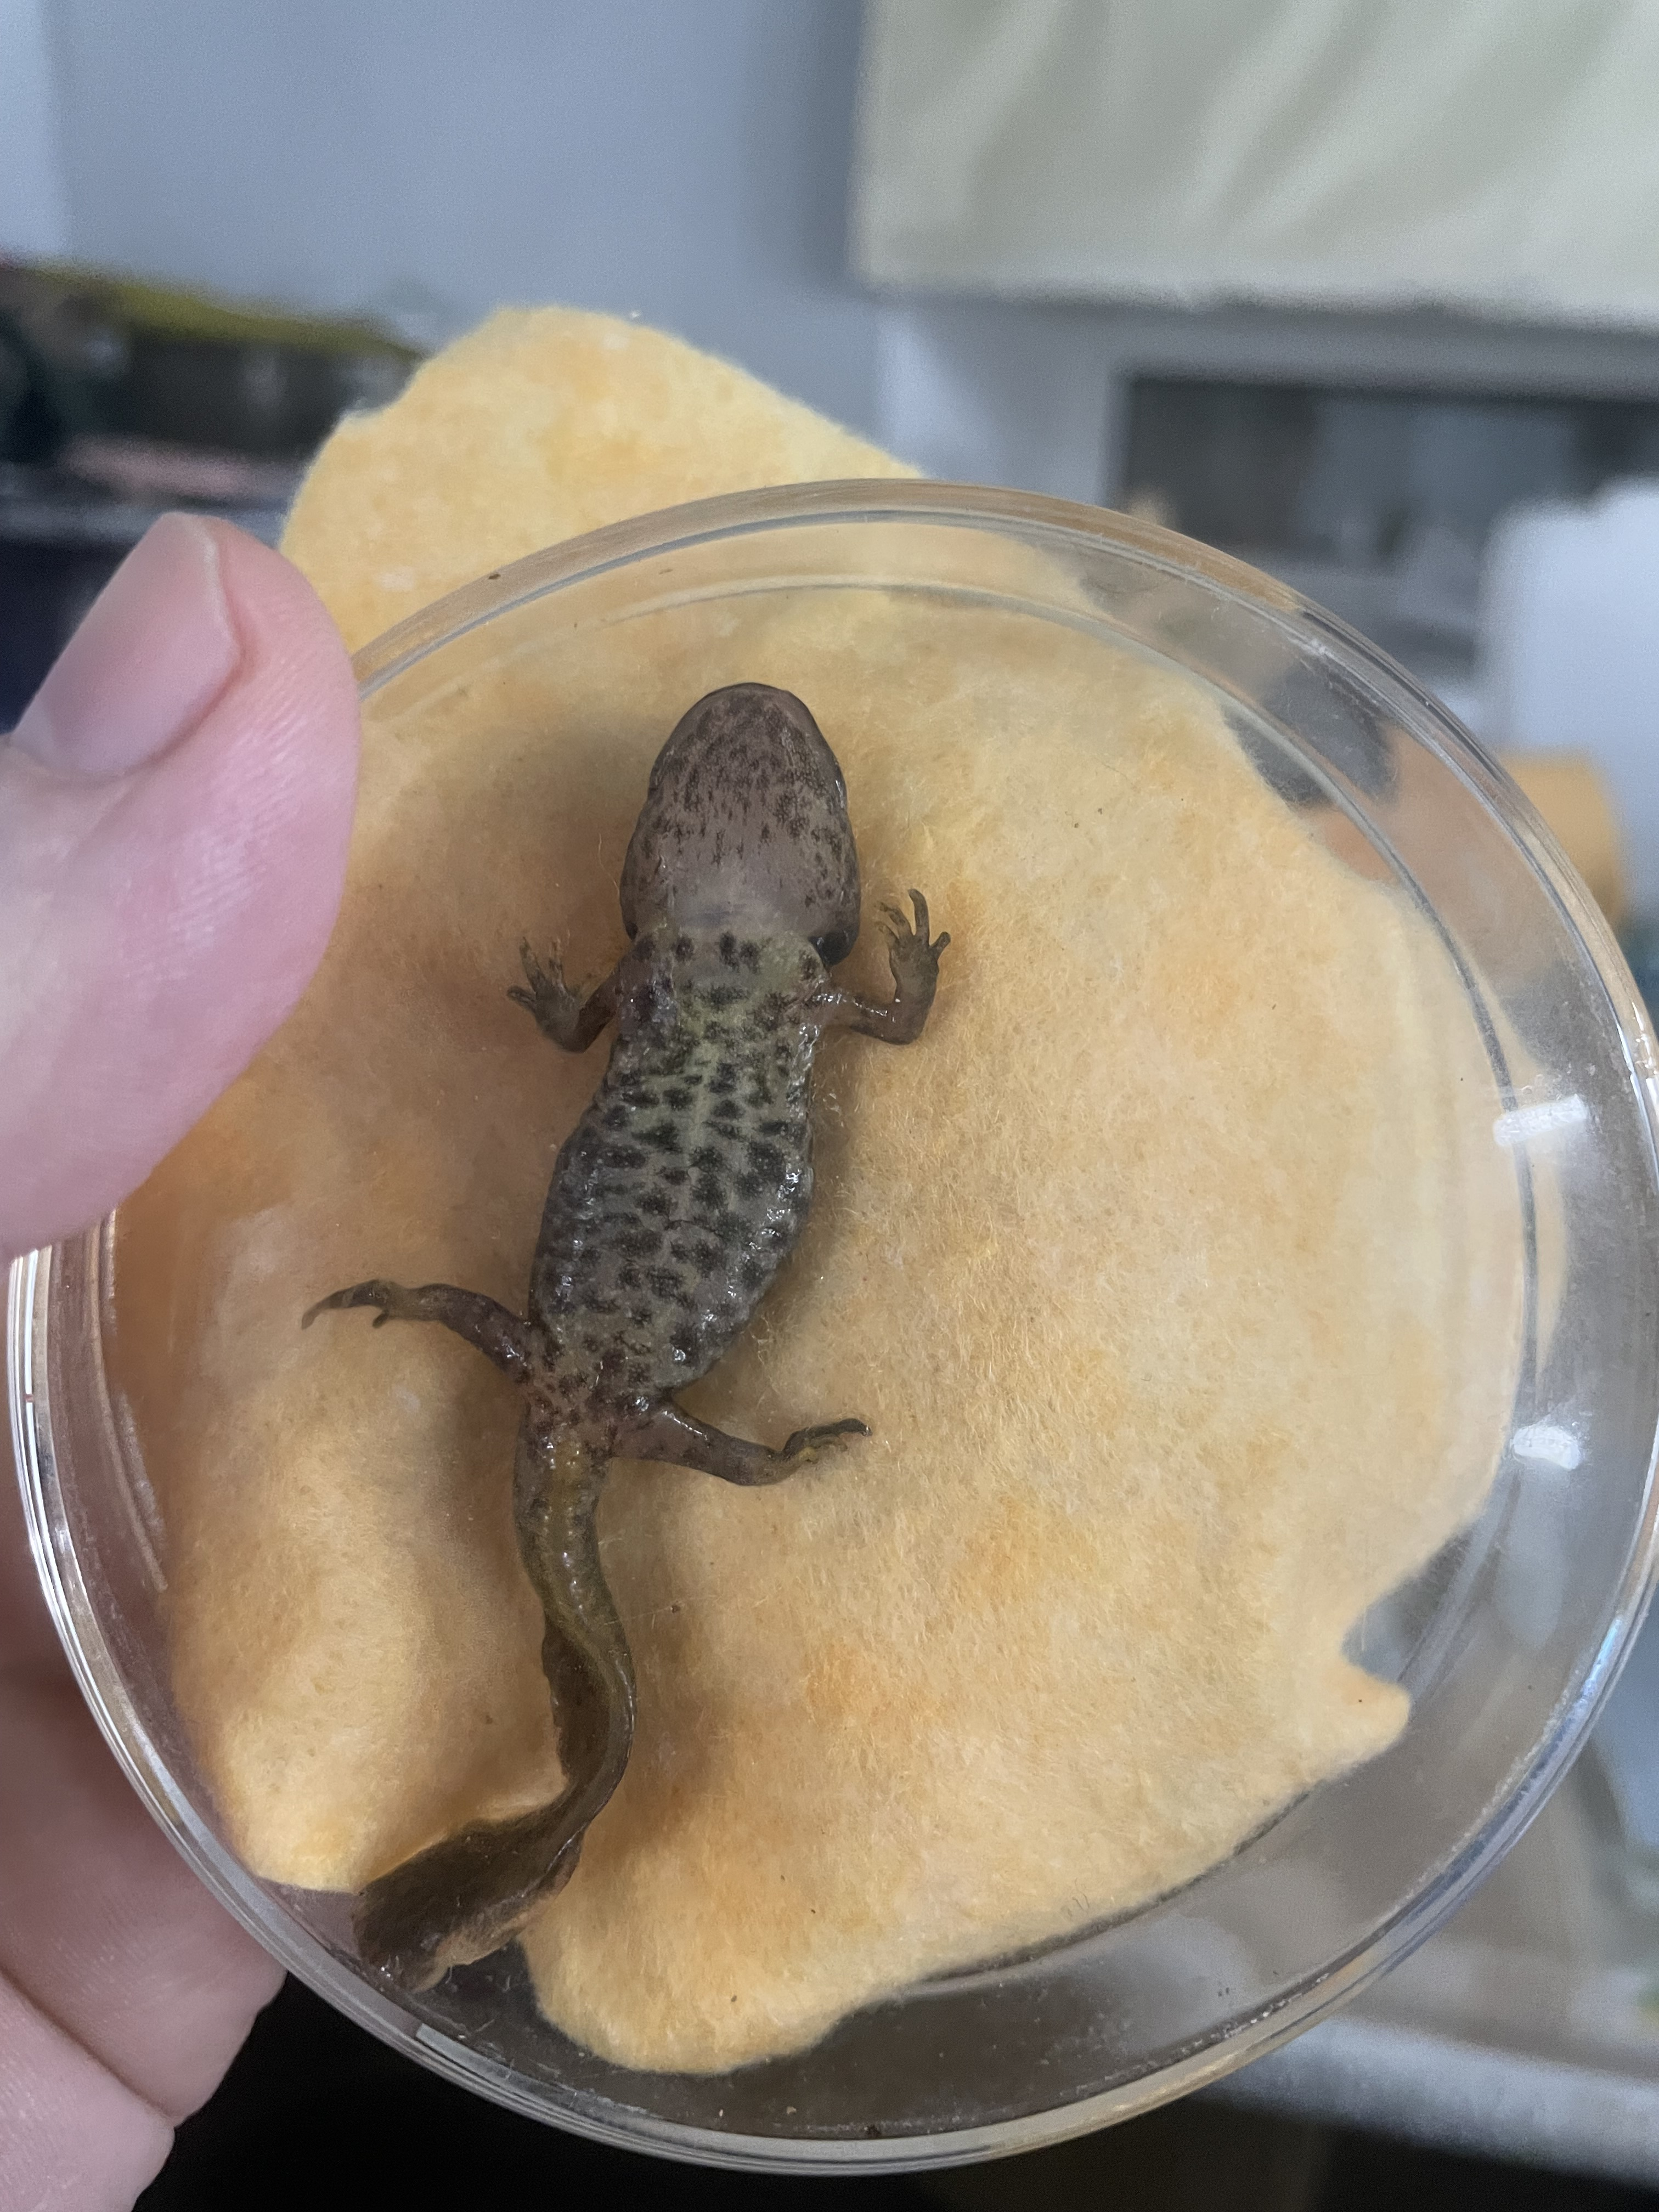newt_ribbed: (526, 1015, 826, 1402)
